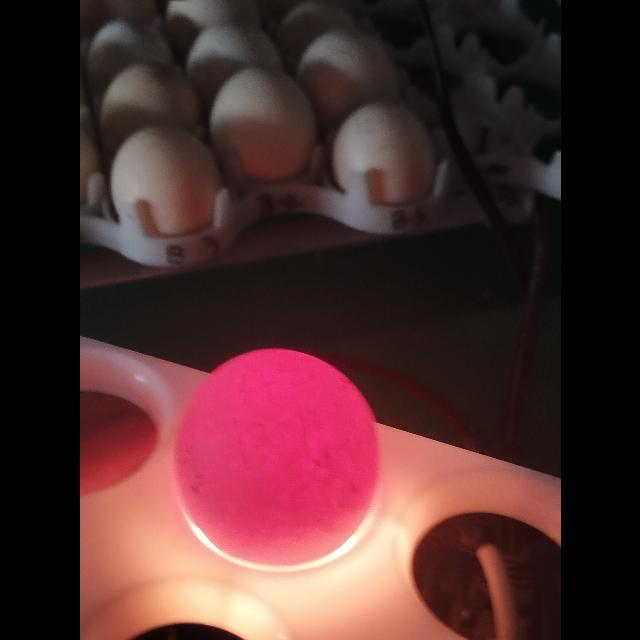Infertile: (171, 345, 385, 569)
